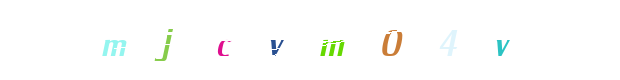0: (292, 0, 372, 80)
4: (352, 0, 432, 80)
C: (181, 0, 261, 80)
J: (159, 0, 239, 80)
M: (120, 0, 200, 80), (270, 0, 350, 80)
V: (235, 0, 315, 80), (444, 0, 524, 80)
